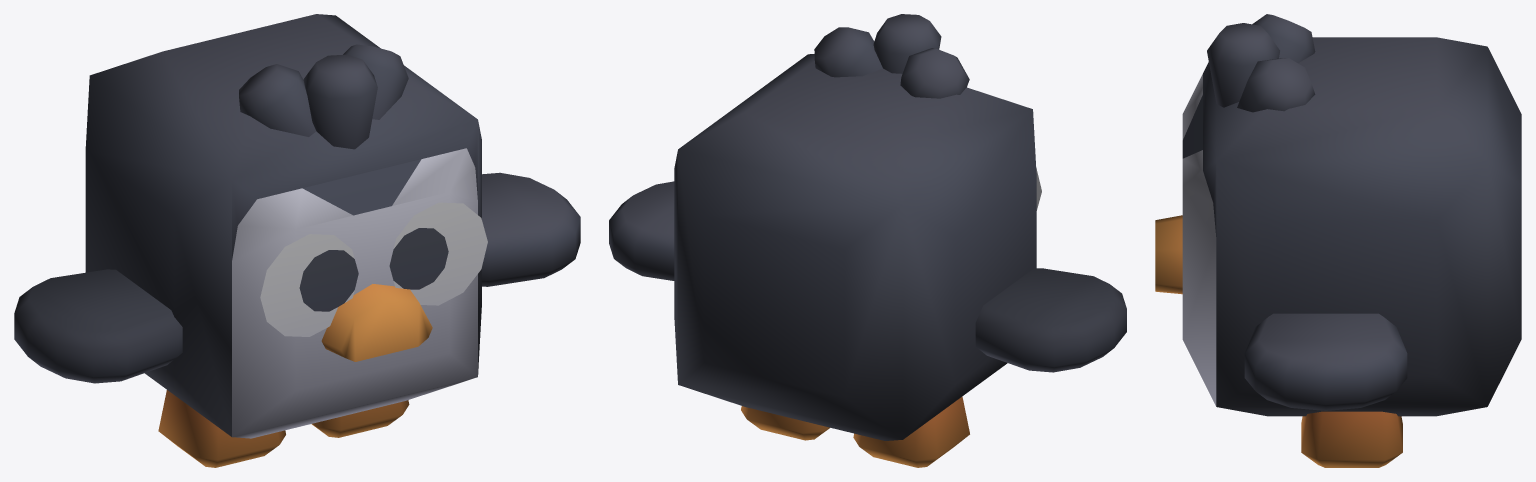
File: pinguim.glb
The picture shows the model from 3 angles, left to right: view 1: azimuth 30°, elevation 25°; view 2: azimuth 150°, elevation 25°; view 3: azimuth 270°, elevation 25°; orthographic projection. The views are drawn at different scales.
Visible parts, largest first — view 1: modelo; view 2: modelo; view 3: modelo.
Part boxes in pixels (left/top/right/bottom): modelo: left=14, top=14, right=580, bottom=467; modelo: left=609, top=14, right=1126, bottom=467; modelo: left=1155, top=14, right=1521, bottom=467.
Bounding box in the file's own units: 1.4 × 1.02 × 0.8632.
